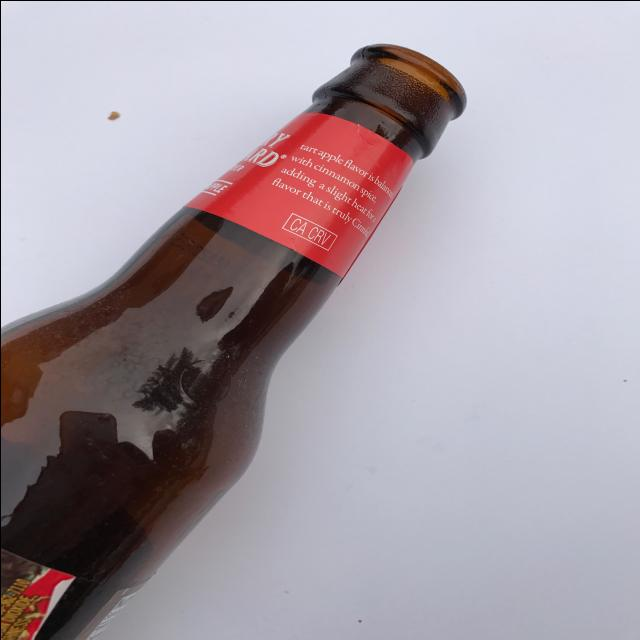glass: (0, 1, 498, 640)
